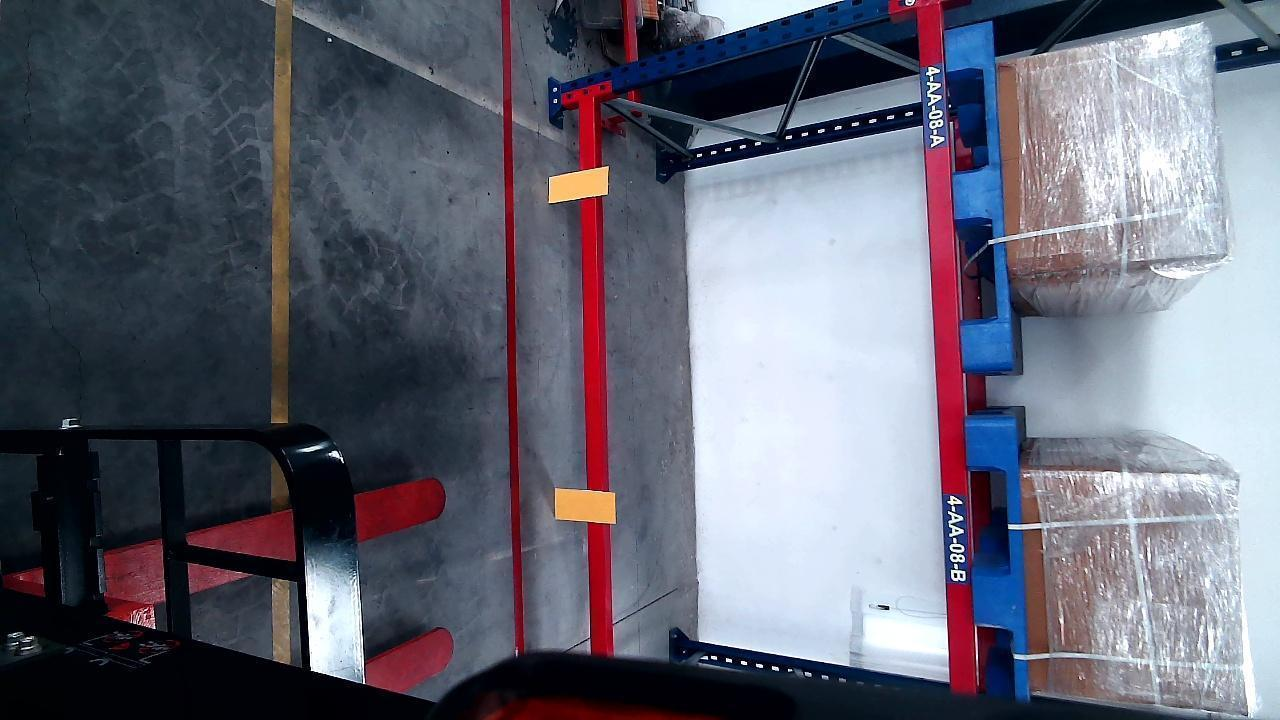red_line: (498, 1, 527, 653)
yellow_line: (268, 0, 294, 416)
